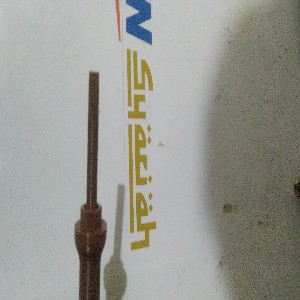obeng: (73, 70, 108, 300)
